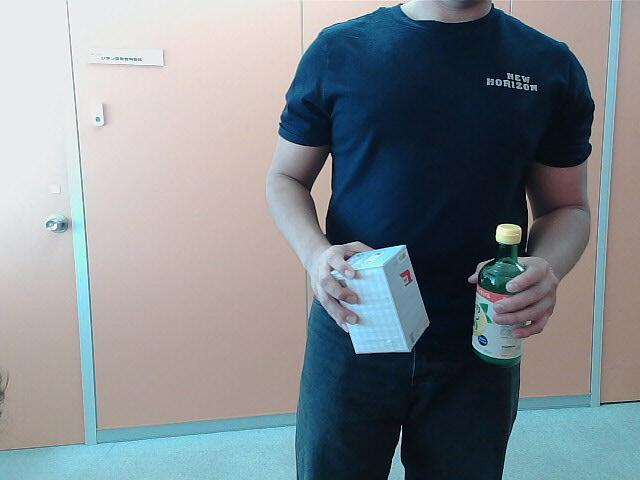Blind_box: (329, 243, 432, 365)
Lemon_sapporo: (472, 219, 532, 363)
